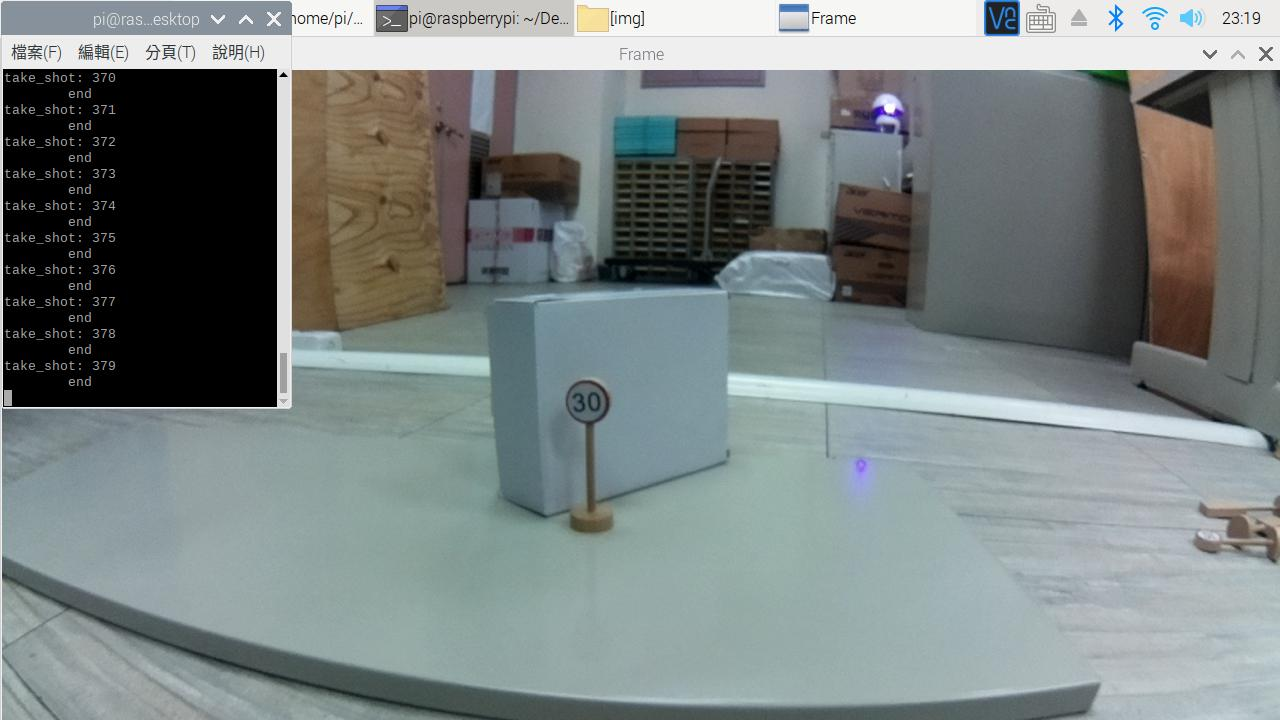Speed30: (546, 370, 625, 439)
